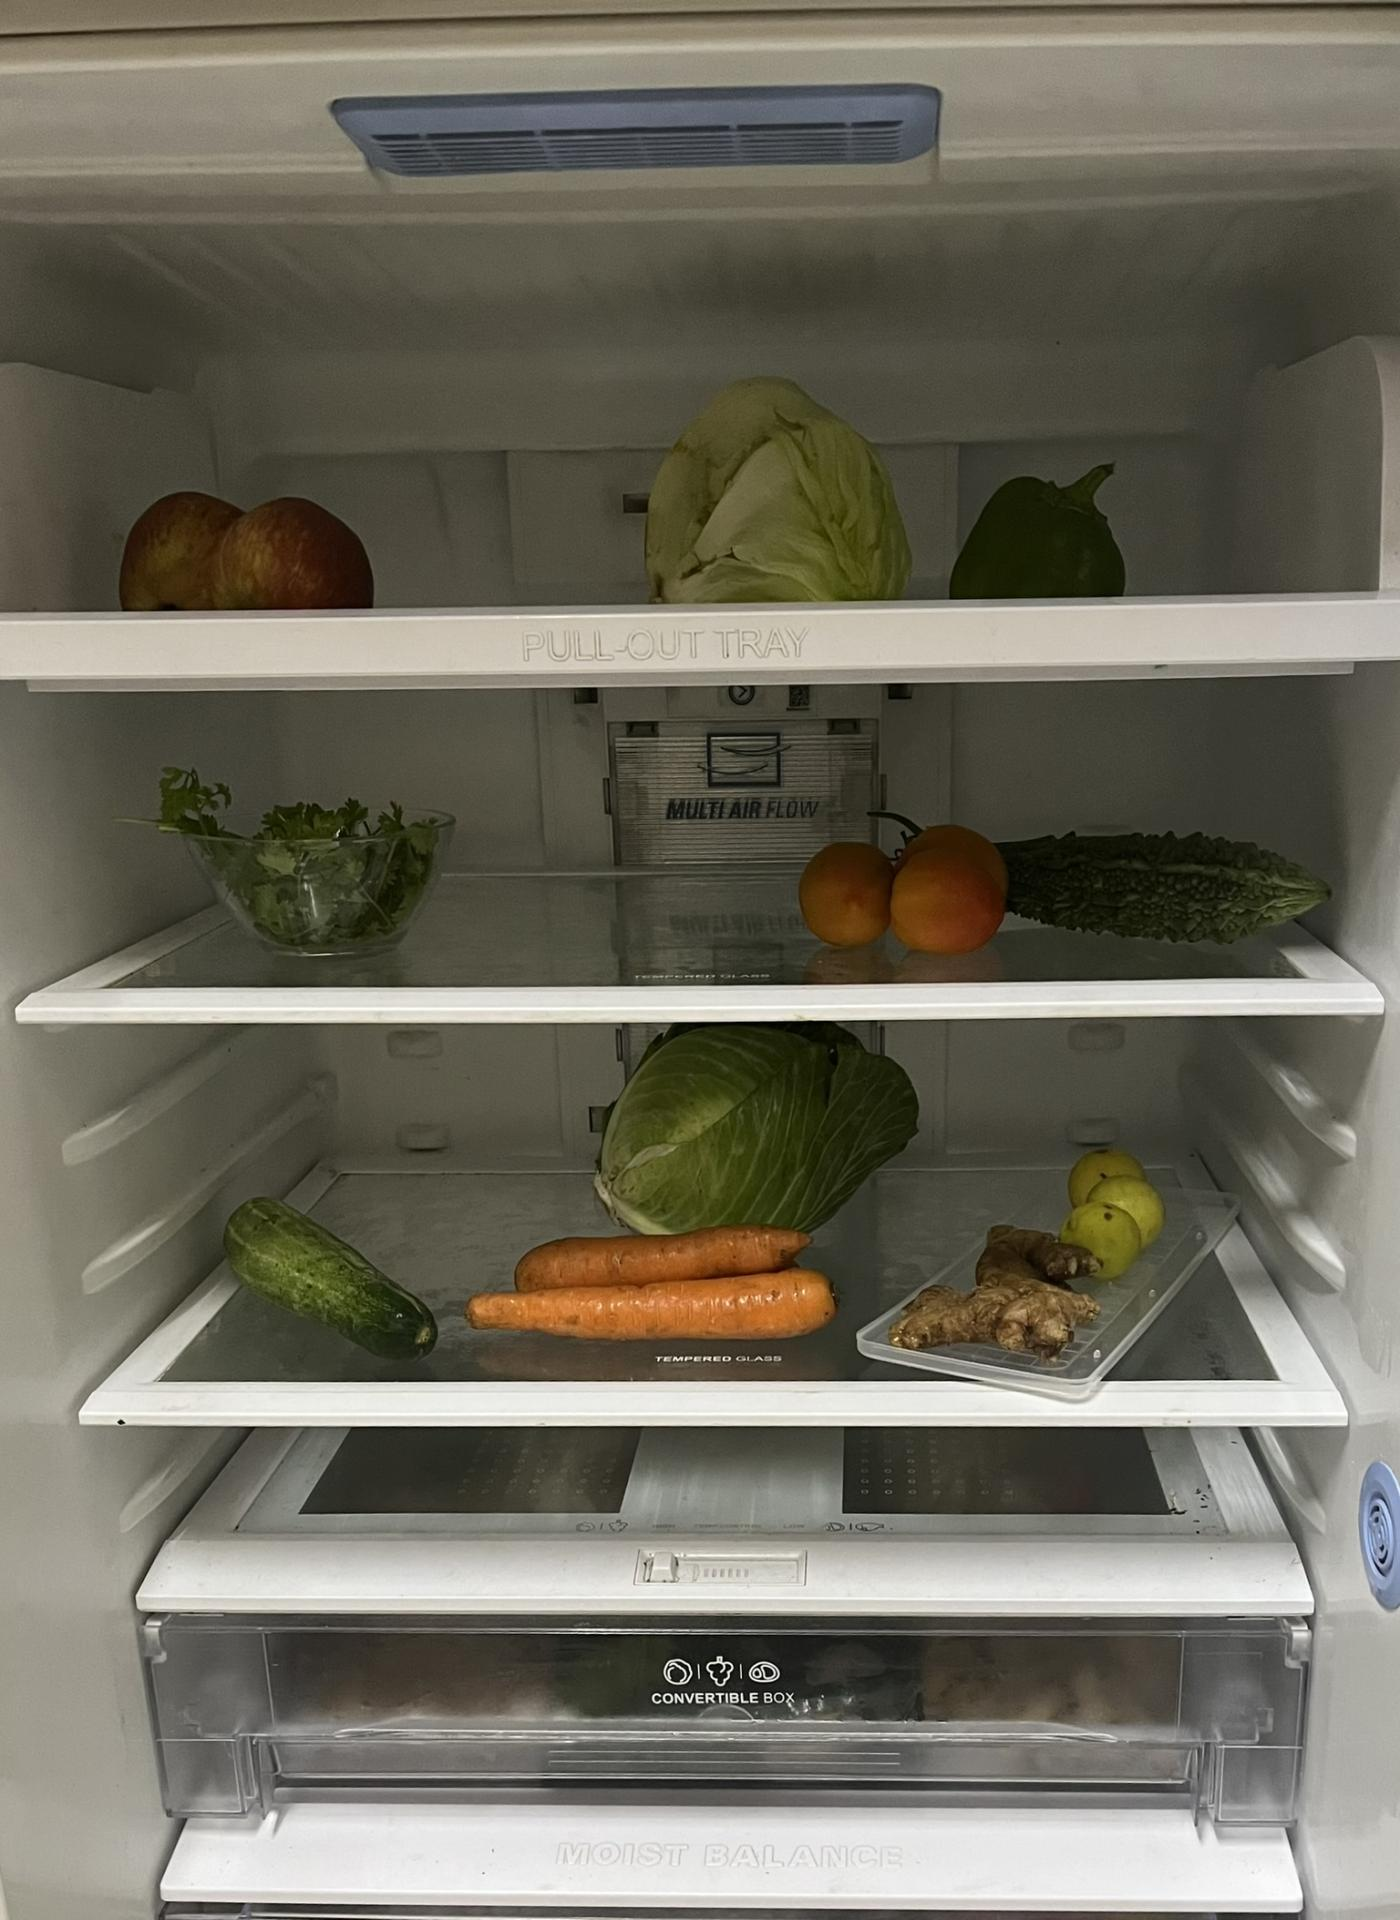apple: (125, 490, 374, 610)
bitter gourd: (960, 823, 1336, 942)
cabbage: (598, 1027, 923, 1234)
capsicum: (960, 456, 1124, 599)
carrots: (462, 1227, 832, 1334)
coriander: (183, 780, 437, 953)
cucumber: (234, 1200, 438, 1361)
ginger: (878, 1228, 1102, 1370)
lemon: (1065, 1145, 1169, 1266)
lettuce: (644, 379, 909, 607)
tomato: (790, 823, 1002, 948)
